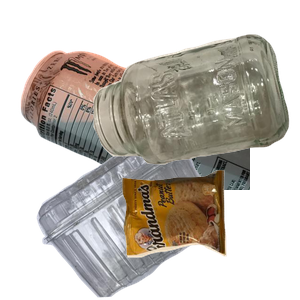glass: (91, 32, 300, 189)
metal: (18, 48, 258, 228)
plastic: (34, 130, 246, 300)
trash: (120, 168, 300, 300)
